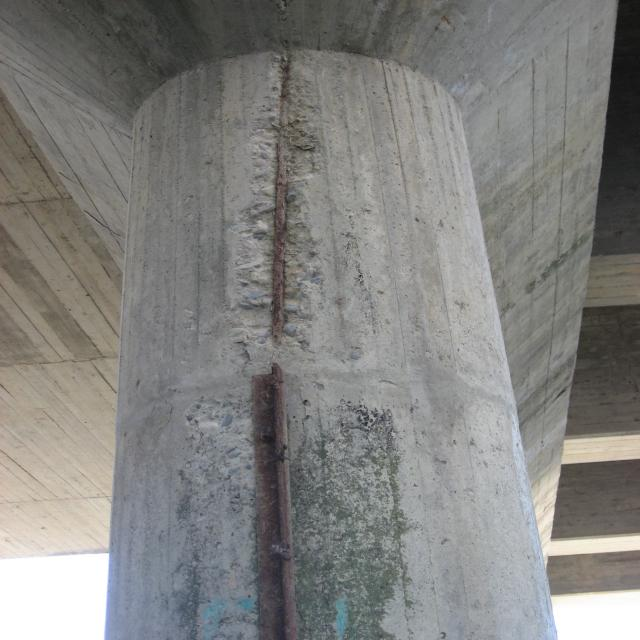corrosion: (249, 40, 316, 640)
